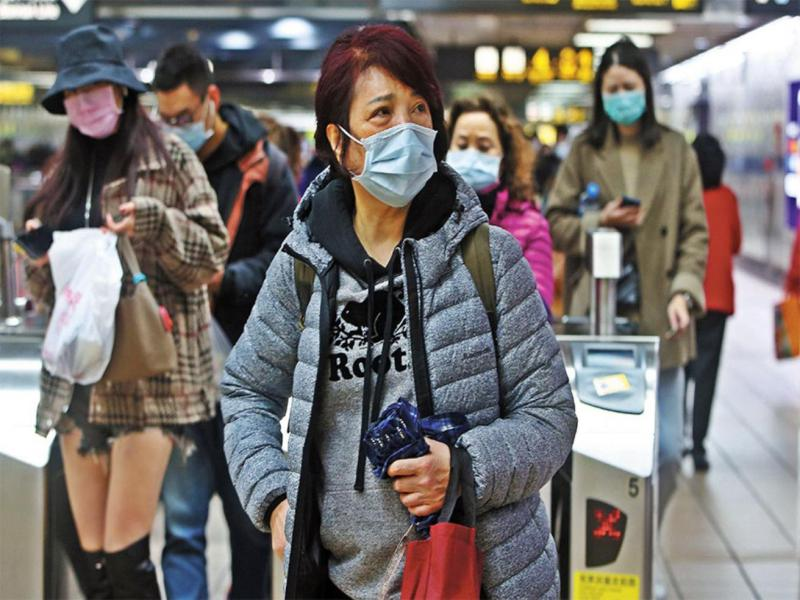good: (351, 88, 443, 213), (62, 78, 125, 140), (444, 132, 502, 196), (153, 108, 214, 158), (600, 73, 651, 131)
